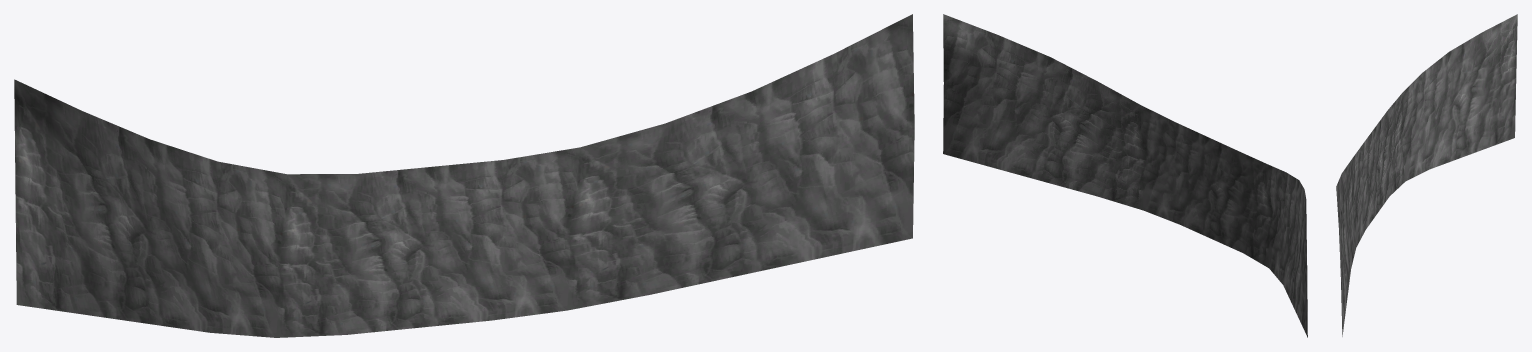
The model's file is SWORDLIGHT20_PS-AREA04_01.fbx.
The picture shows the model from 3 angles, left to right: view 1: azimuth 30°, elevation 25°; view 2: azimuth 150°, elevation 25°; view 3: azimuth 270°, elevation 25°; orthographic projection. The views are drawn at different scales.
Parts seen in each view (by area): view 1: SWORDLIGHT20_PS-AREA04_01; view 2: SWORDLIGHT20_PS-AREA04_01; view 3: SWORDLIGHT20_PS-AREA04_01.
Part boxes in pixels (<box>): SWORDLIGHT20_PS-AREA04_01: <box>14,14,914,337</box>; SWORDLIGHT20_PS-AREA04_01: <box>943,14,1307,337</box>; SWORDLIGHT20_PS-AREA04_01: <box>1336,14,1517,336</box>.
Bounding box in the file's own units: 129871 × 37603 × 49791.
1 material, 1 textured.
